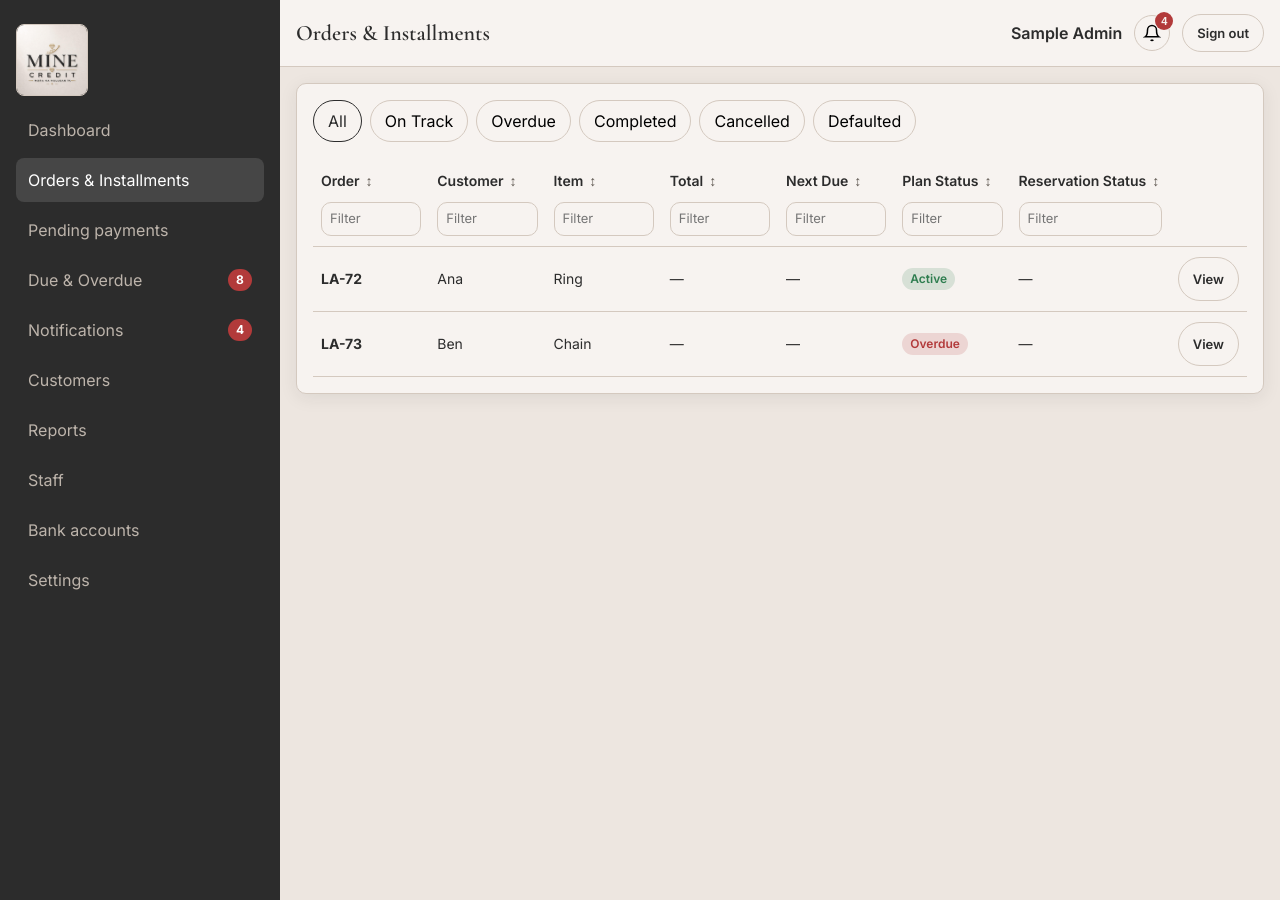
Scenario: admin orders › lists active plans under All and On Track without an Active filter
Expected: the text "LA-72" is shown, [321, 270, 362, 287]
Expected: the text "Active" is shown, [902, 268, 955, 290]
Click the button with aria-label "Show On Track orders". click: (419, 121)
box: [370, 100, 468, 142]
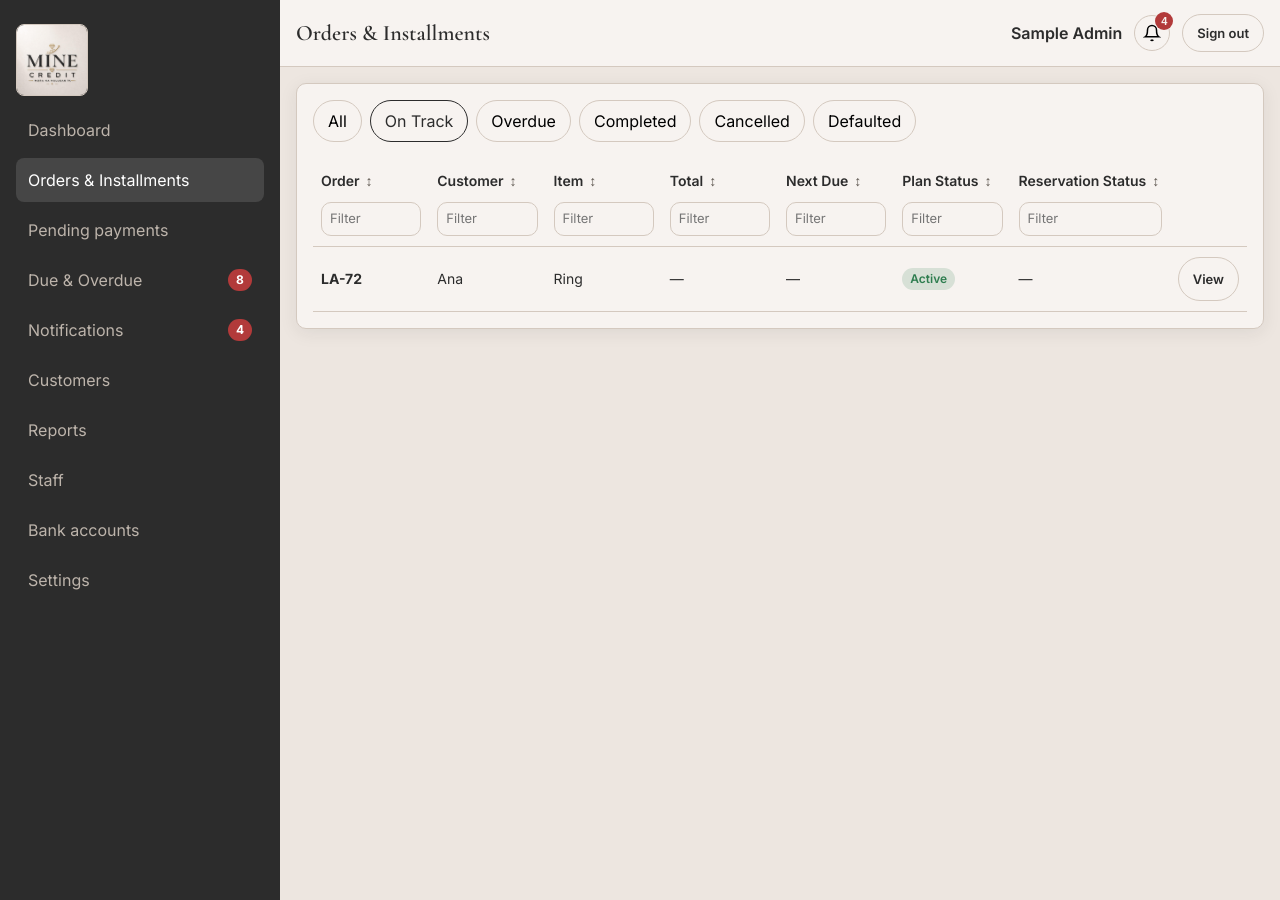
Expected: the text "LA-72" is shown, [321, 270, 362, 287]
Expected: the text "LA-73" is gone
